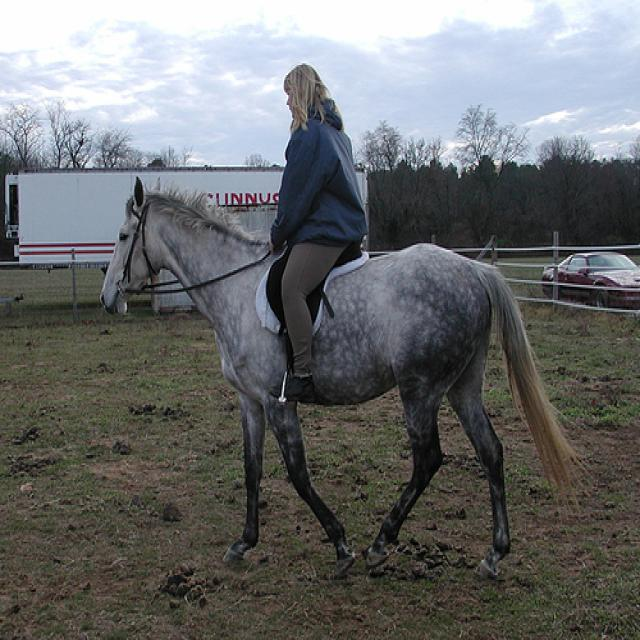light_vehicle: (541, 252, 639, 312)
